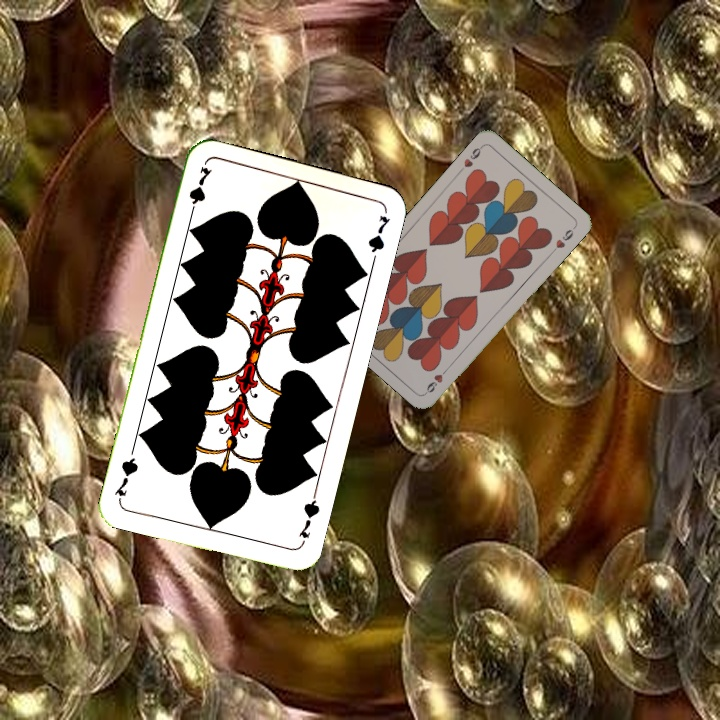G7: (185, 162, 214, 221), (294, 489, 323, 548)
H9: (455, 141, 486, 175), (421, 363, 452, 396)
